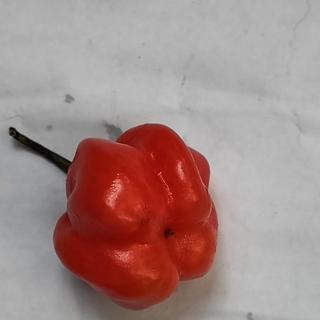Grade-B: (49, 119, 219, 310)
